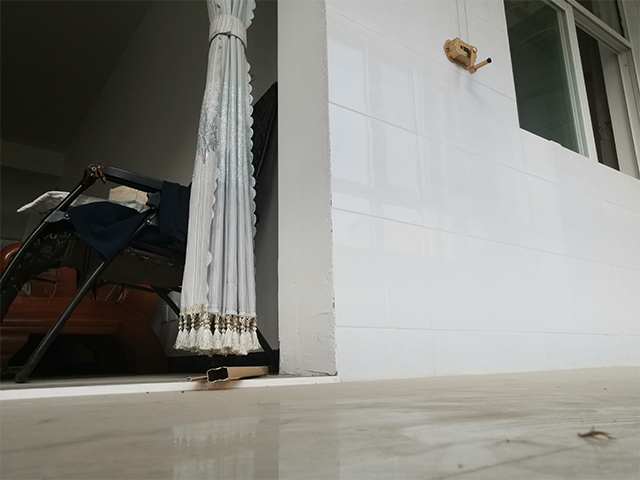curtain: (171, 1, 265, 358)
stool: (1, 78, 278, 383)
